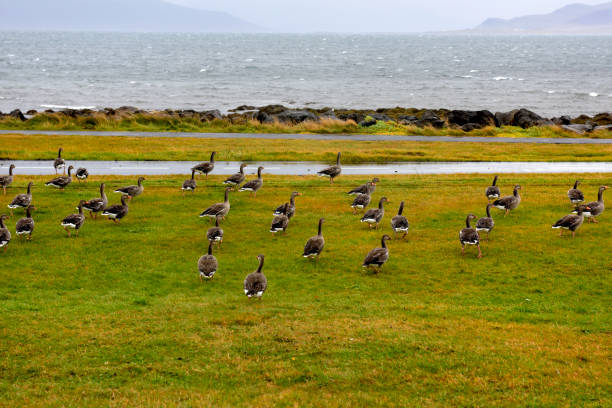goose: (197, 185, 238, 232), (239, 251, 272, 306), (549, 200, 593, 239), (360, 232, 396, 277), (453, 211, 482, 266), (192, 233, 222, 284), (58, 197, 92, 241), (344, 177, 381, 217), (574, 181, 610, 222), (11, 203, 45, 245), (301, 215, 327, 268), (360, 192, 393, 233), (270, 188, 311, 220), (240, 160, 273, 199), (112, 171, 159, 198), (100, 192, 137, 225), (318, 149, 349, 188), (40, 163, 79, 194), (495, 181, 529, 216), (79, 179, 111, 216), (11, 175, 40, 212), (187, 147, 225, 174), (560, 176, 591, 207), (221, 159, 253, 189), (267, 201, 294, 235), (48, 143, 74, 177), (474, 201, 498, 237), (389, 197, 411, 236), (480, 169, 506, 202), (1, 160, 20, 200), (181, 167, 202, 195), (1, 210, 12, 257)
